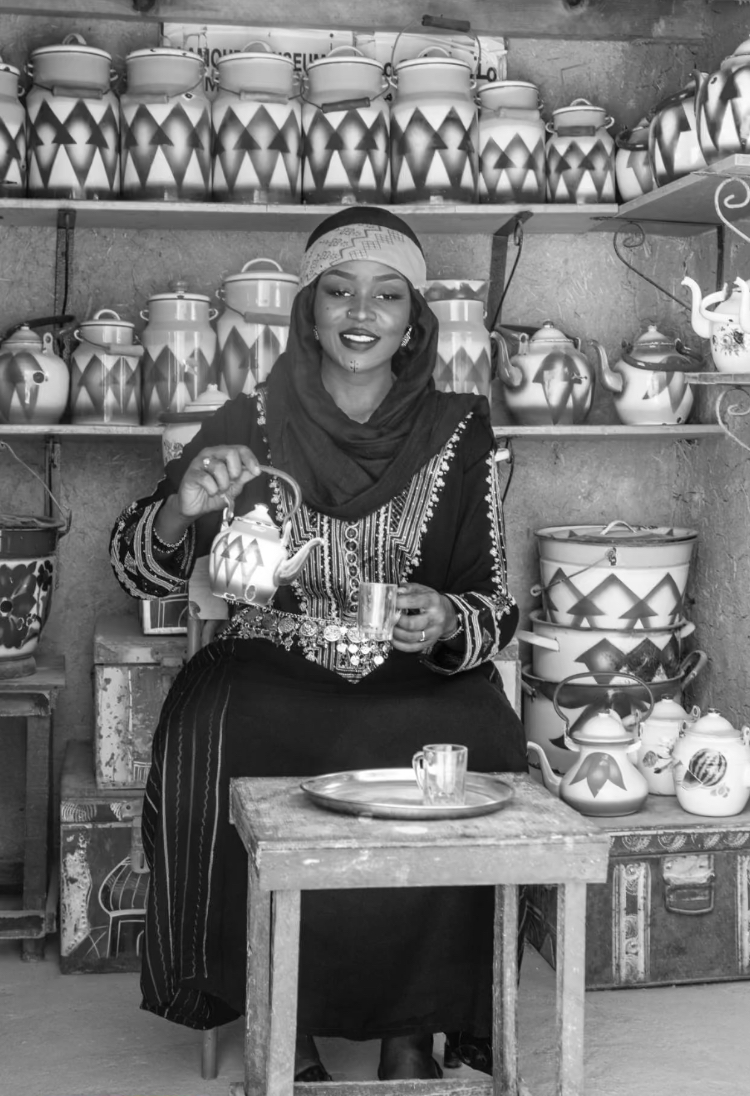Saudi_Founding_Day: (102, 199, 541, 1086)
